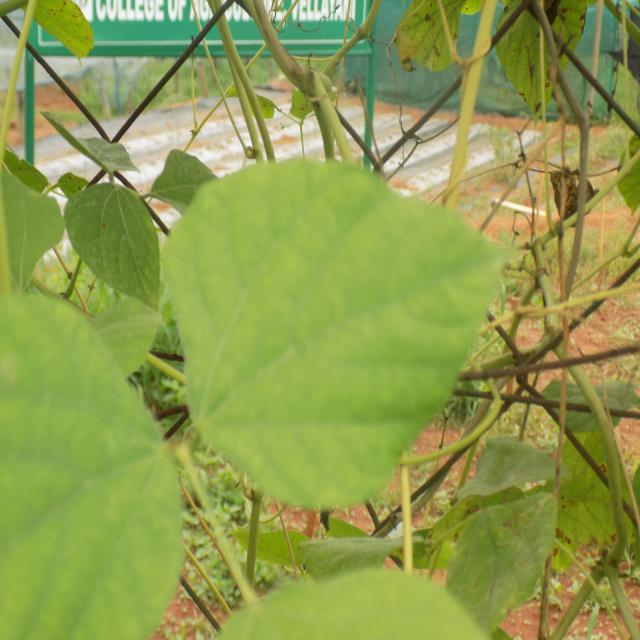Dolicos bean_healthy: (168, 146, 514, 520), (64, 176, 165, 316)
